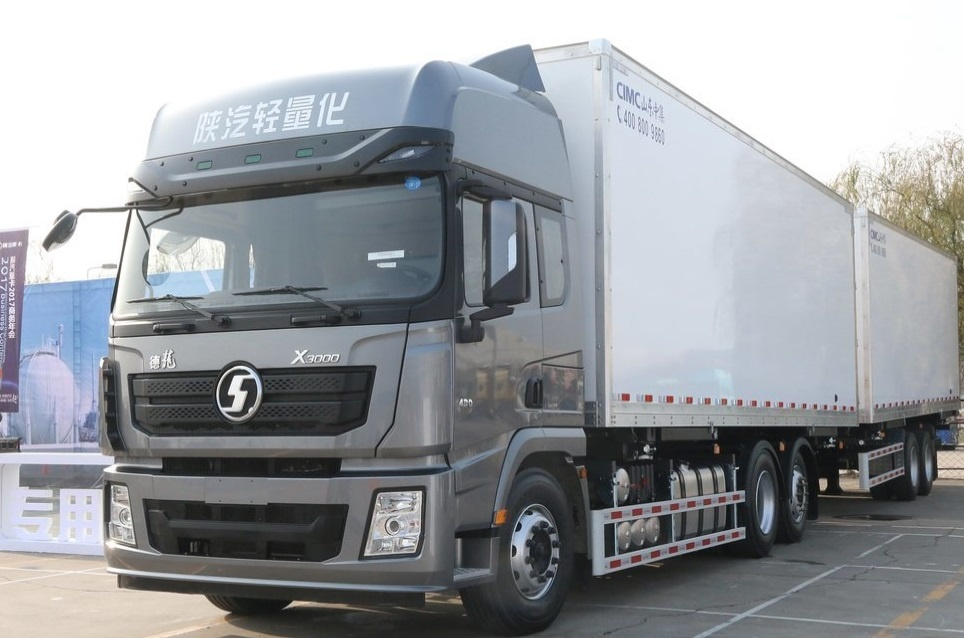heavy truck: (105, 32, 869, 599)
